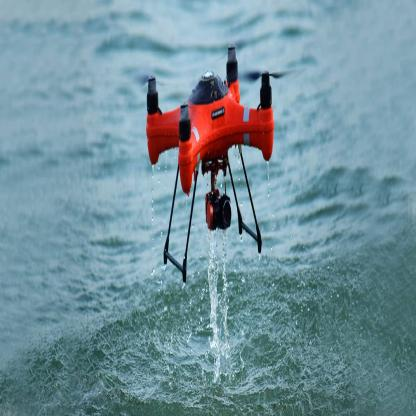drone: (133, 47, 301, 231)
